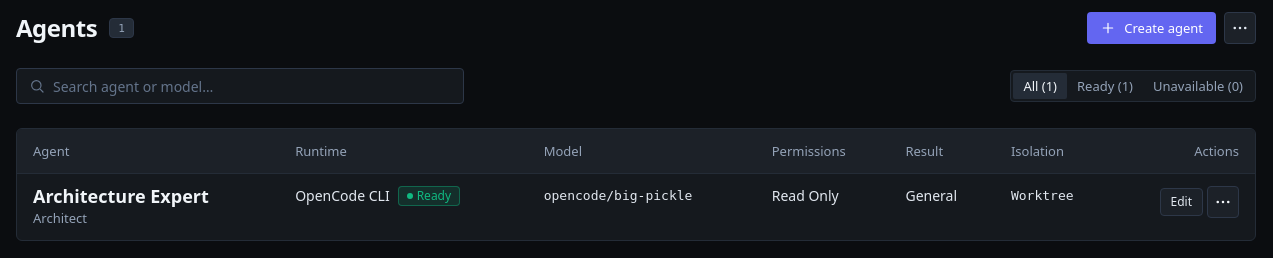
Scenario: AgentsPage › narrows the list with the search box
The width and height of the screenshot is (1273, 258).
Type "zzz" into the search field labelled "Search agent or model…". click: (252, 86)
box: [53,69,451,103]
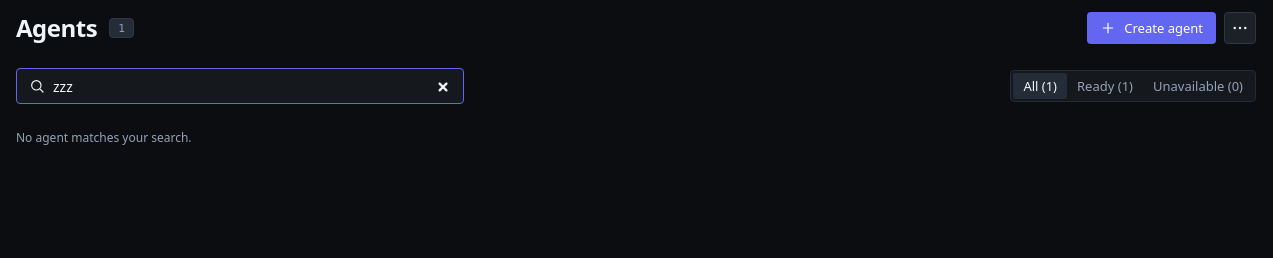
Result: the text "No agent matches your search." is shown at [16,129,192,146]
